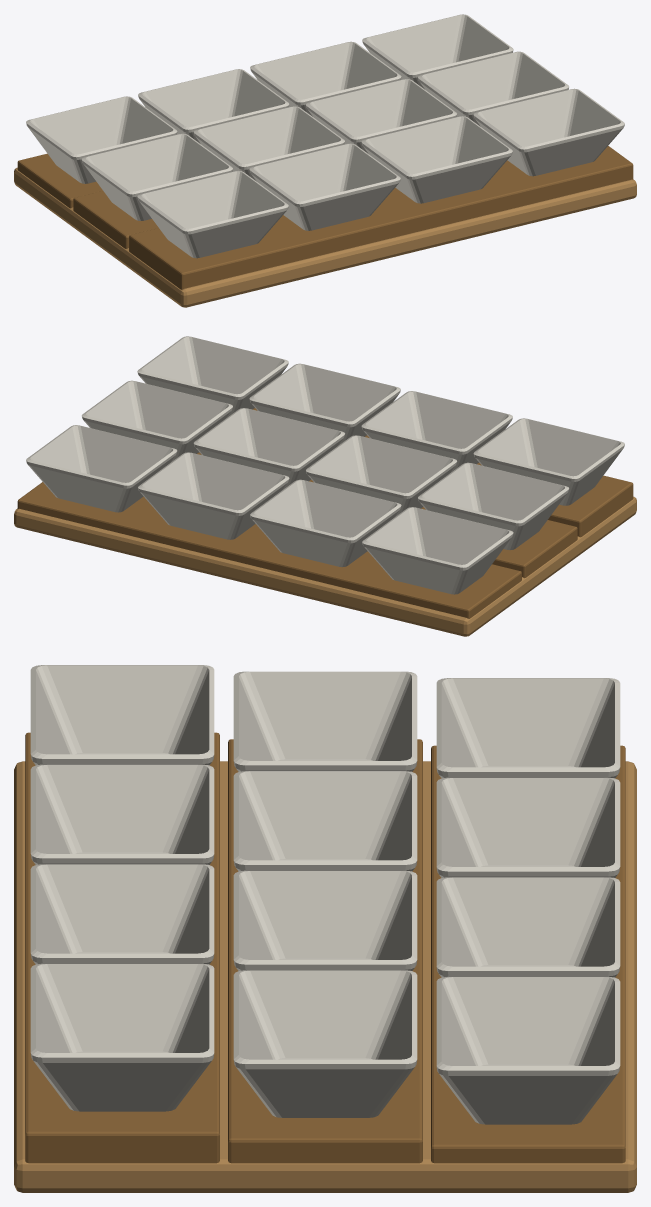
The model's file is bowls.glb.
3 views of the same model, one above another, from view 1: azimuth 30°, elevation 25°; view 2: azimuth 150°, elevation 25°; view 3: azimuth 270°, elevation 25° (orthographic). The views are drawn at different scales.
Parts seen in each view (by area): view 1: 실내 조명 베이크용 bowls; view 2: 실내 조명 베이크용 bowls; view 3: 실내 조명 베이크용 bowls.
Boxes of the visible parts, x1,y1,x2,y2 form: 실내 조명 베이크용 bowls: (14, 14, 636, 307); 실내 조명 베이크용 bowls: (14, 336, 636, 636); 실내 조명 베이크용 bowls: (14, 665, 636, 1192).
Bounding box in the file's own units: 1.2 × 0.186 × 0.78.
